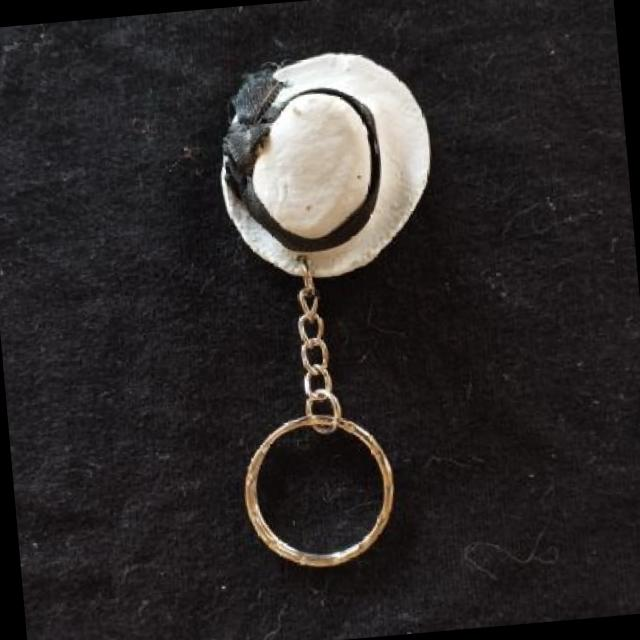Llavero: (208, 43, 442, 287)
